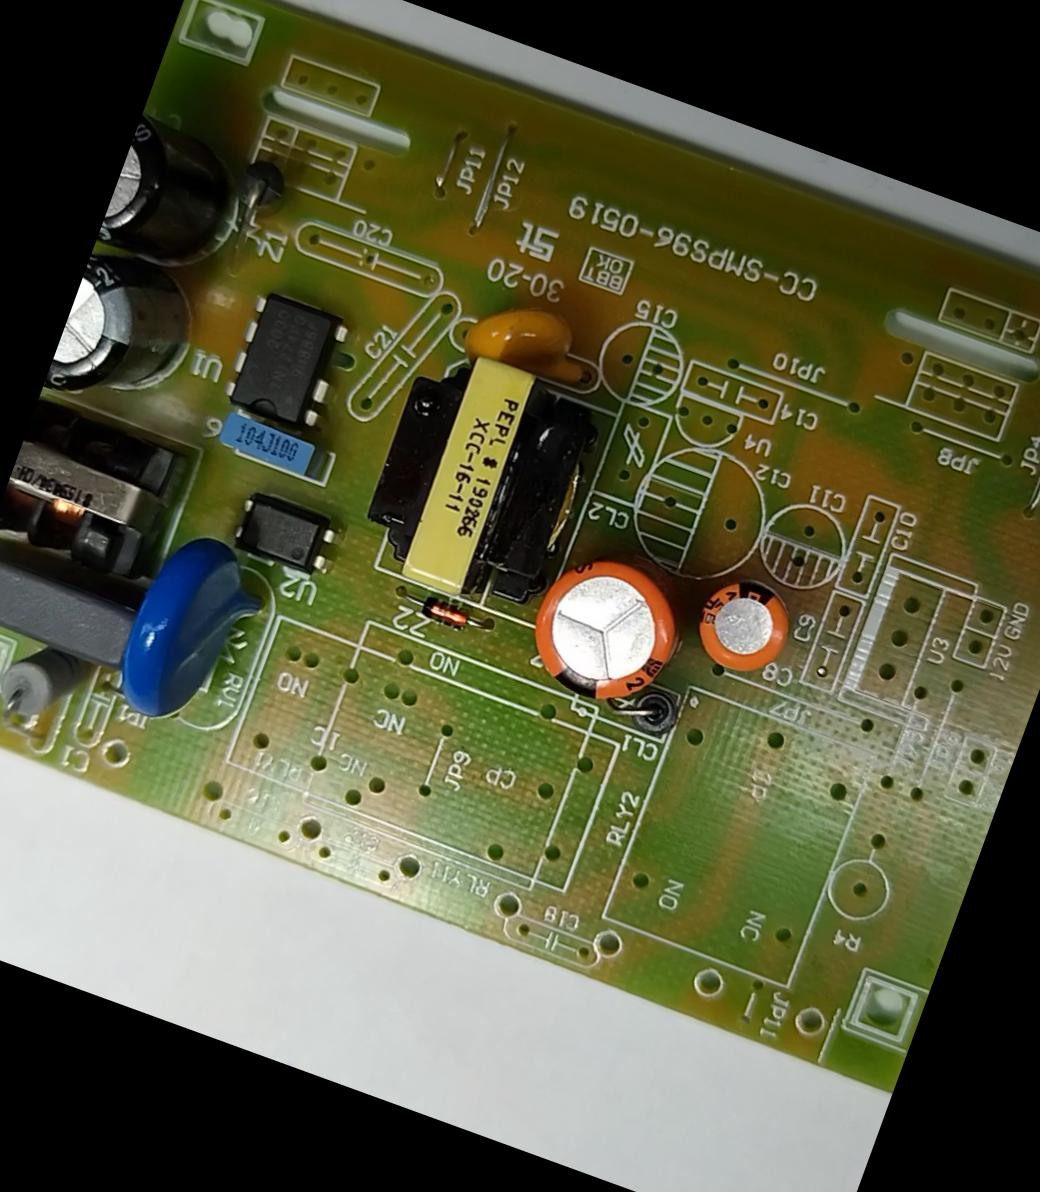Cap1: (506, 539, 699, 730)
Cap2: (680, 563, 803, 688)
Cap3: (42, 254, 208, 432)
Cap4: (93, 105, 255, 287)
MOSFET: (213, 284, 356, 438)
Mov: (98, 517, 283, 745)
Resistor: (0, 635, 95, 744)
Transformer: (340, 333, 606, 631), (0, 395, 197, 596)
